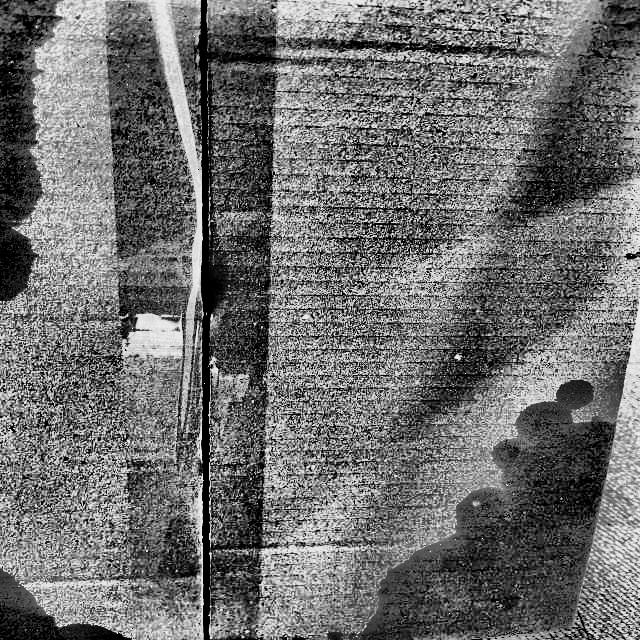box: (1, 0, 640, 639)
wet: (374, 384, 627, 640), (0, 0, 78, 308), (0, 571, 128, 637)
